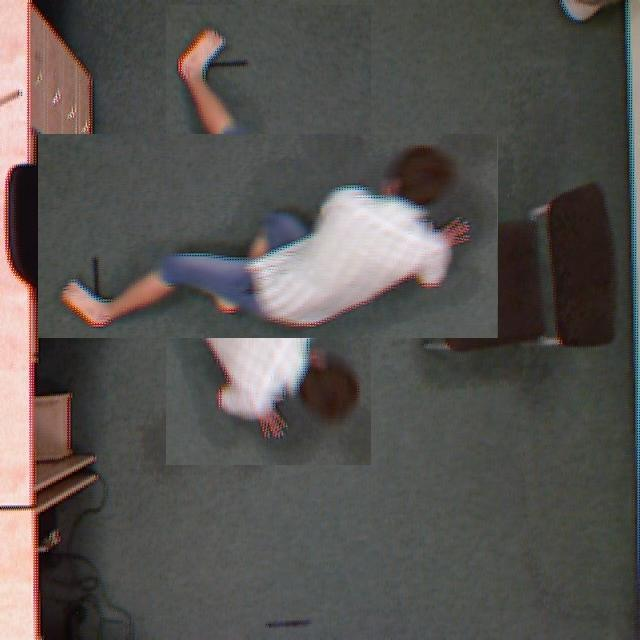Fall: (79, 148, 470, 358)
